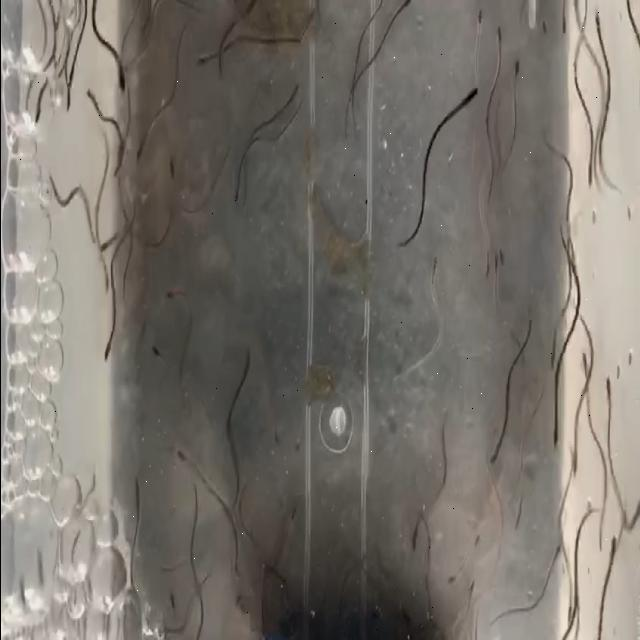active_glass_eel: (126, 470, 148, 518), (600, 348, 617, 406), (484, 431, 502, 482), (210, 47, 228, 93), (104, 298, 120, 348), (462, 71, 478, 119), (58, 74, 74, 122), (545, 328, 561, 376), (232, 177, 254, 210), (68, 48, 88, 84), (164, 275, 180, 319), (538, 12, 552, 62), (100, 256, 114, 304), (544, 414, 562, 450), (158, 201, 176, 237), (471, 0, 487, 40), (188, 36, 208, 68), (87, 200, 99, 253), (590, 0, 602, 52), (158, 154, 180, 182), (558, 0, 574, 38), (144, 247, 163, 278), (130, 138, 152, 164), (242, 0, 258, 35), (562, 601, 576, 640), (238, 340, 259, 366), (427, 252, 443, 286), (114, 61, 130, 95), (118, 236, 133, 272), (591, 413, 603, 457), (508, 488, 524, 521), (546, 535, 566, 561), (170, 424, 185, 458), (492, 17, 506, 53), (580, 162, 598, 190), (281, 609, 297, 640), (284, 496, 299, 528), (166, 588, 182, 618), (121, 60, 145, 80), (568, 438, 582, 472), (151, 332, 165, 366), (508, 47, 520, 86), (448, 452, 462, 485), (36, 87, 50, 119), (471, 522, 483, 558), (566, 260, 582, 286), (604, 524, 616, 558), (492, 250, 502, 288), (290, 74, 302, 105), (578, 344, 590, 374), (496, 548, 508, 576), (397, 0, 412, 22), (498, 238, 508, 270), (411, 531, 423, 557), (571, 0, 581, 31), (480, 254, 490, 280)
